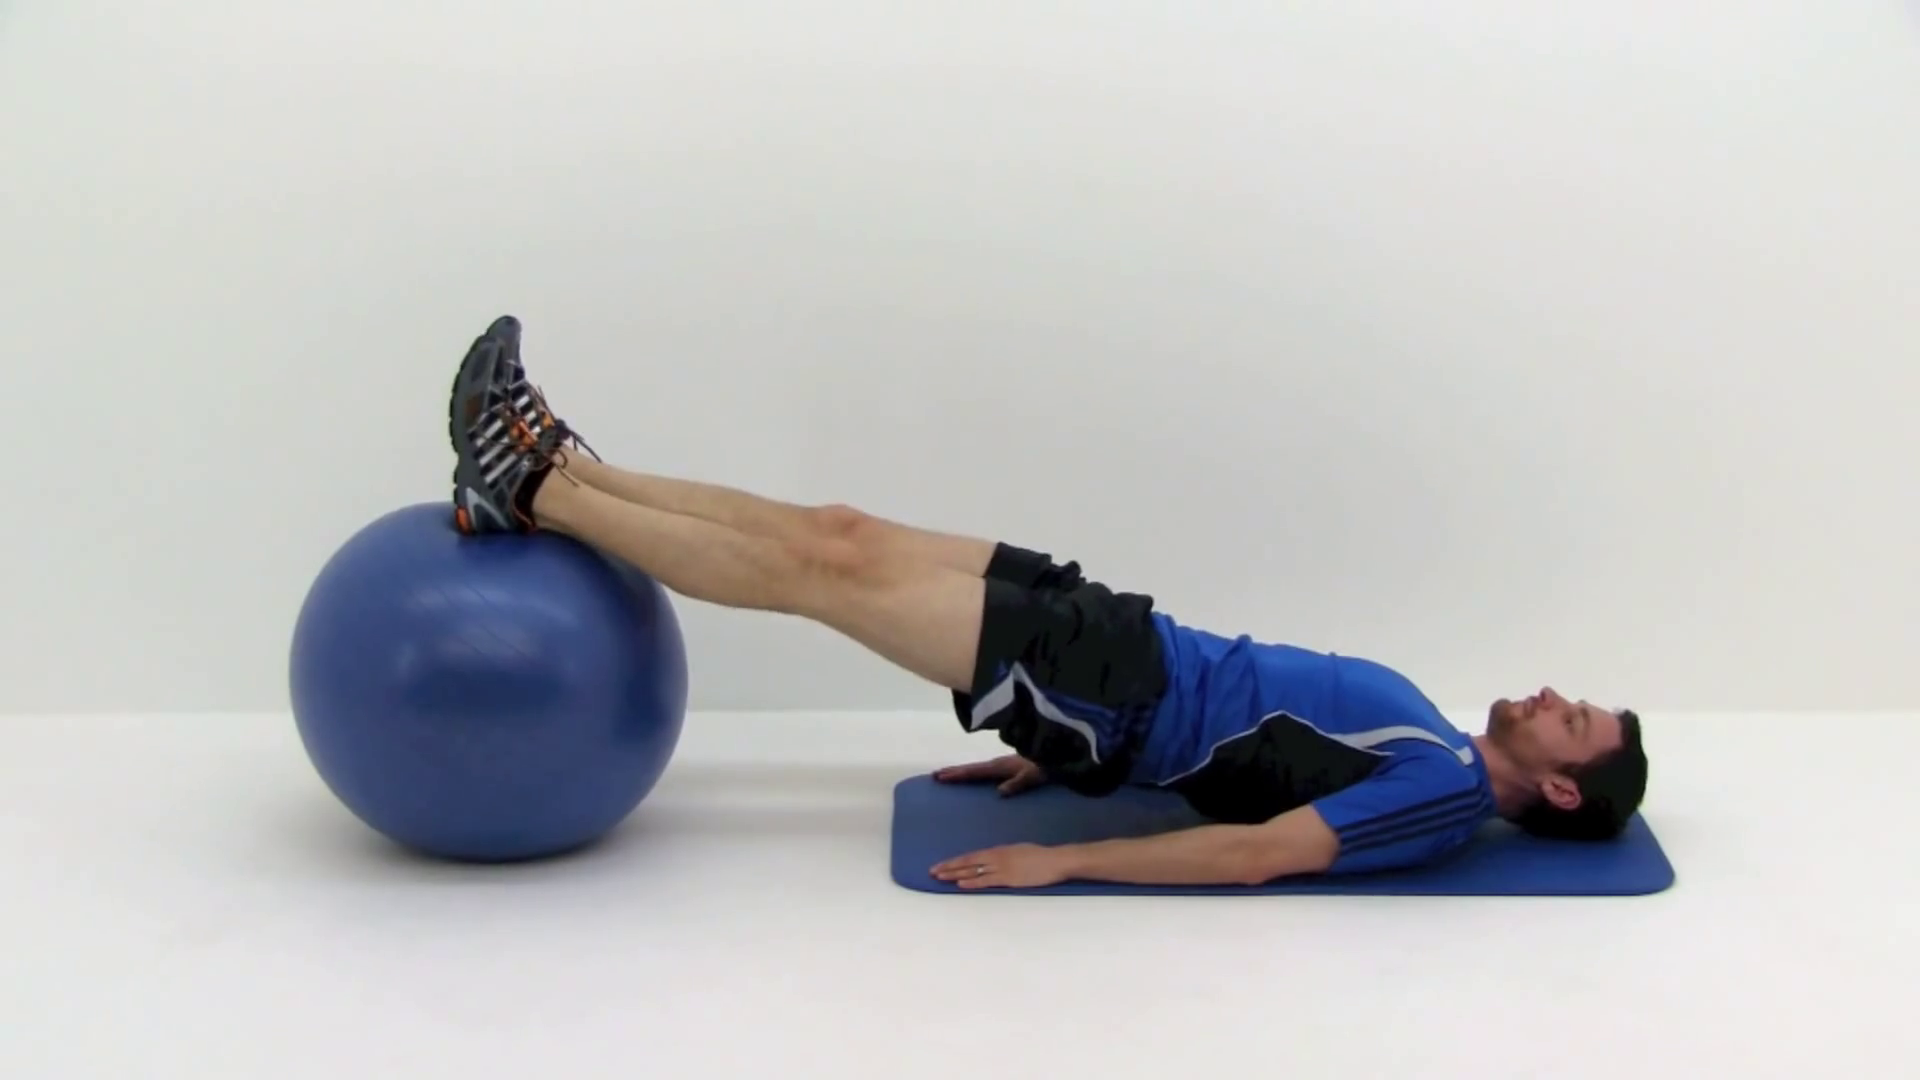yogaball: (281, 495, 688, 873)
